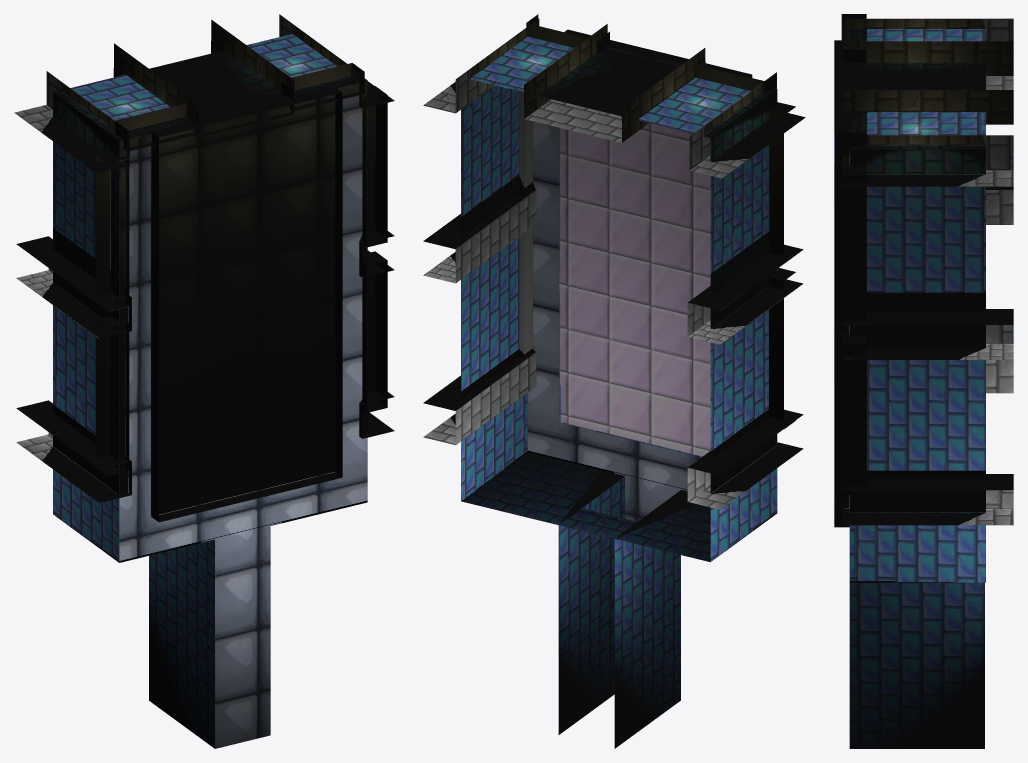
The model's file is level4.obj.
The picture shows the model from 3 angles, left to right: view 1: azimuth 30°, elevation 25°; view 2: azimuth 150°, elevation 25°; view 3: azimuth 270°, elevation 25°; orthographic projection. The views are drawn at different scales.
Visible parts, largest first — view 1: Plane; view 2: Plane; view 3: Plane.
Part boxes in pixels (left/top/right/bottom): Plane: left=14, top=14, right=394, bottom=748; Plane: left=423, top=14, right=805, bottom=748; Plane: left=834, top=14, right=1013, bottom=748.
Size of the model in its own units: 416 by 872 by 212.
